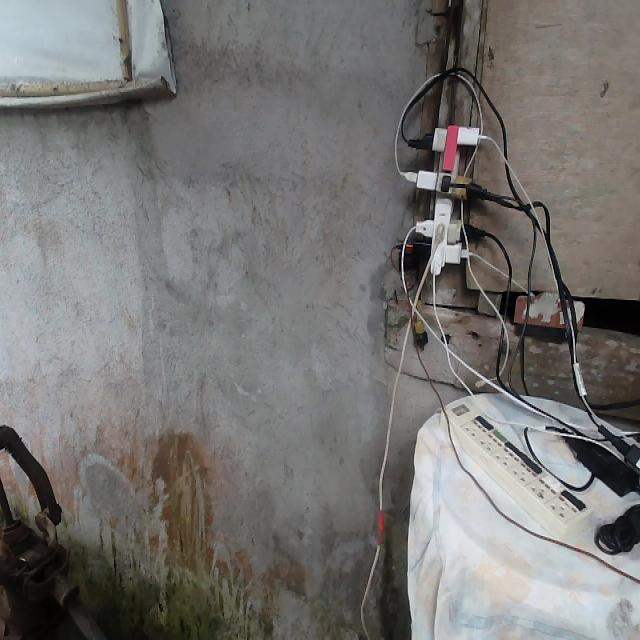-: (393, 123, 495, 277)
